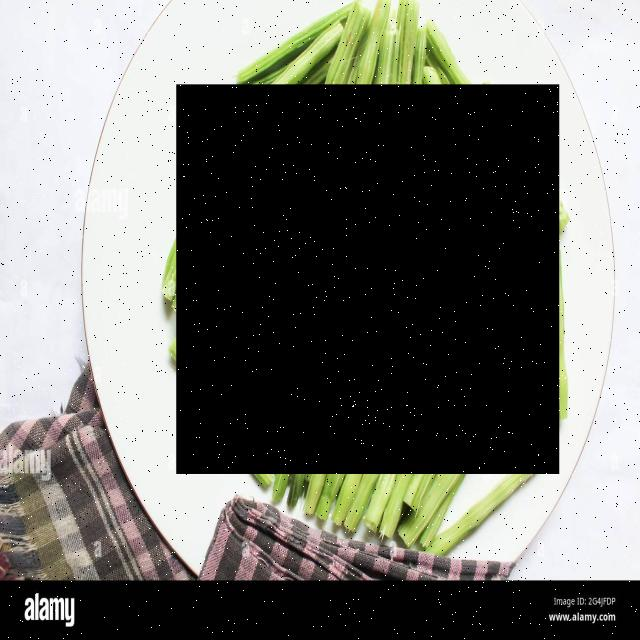Sajjyun: (176, 85, 560, 474)
